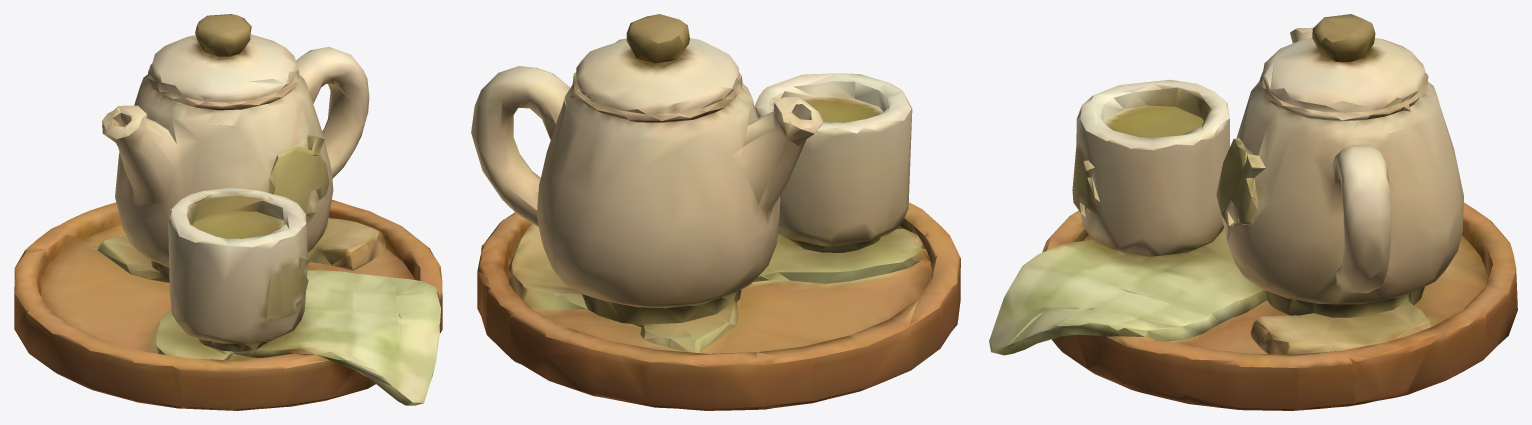
Rendered from deco13.glb.
3 renders of one model, left to right at view 1: azimuth 30°, elevation 25°; view 2: azimuth 150°, elevation 25°; view 3: azimuth 270°, elevation 25°, orthographic. The views are drawn at different scales.
Bounding box in the file's own units: 0.2227 × 0.1598 × 0.2462.
Materials: 1 (1 with a texture image).
